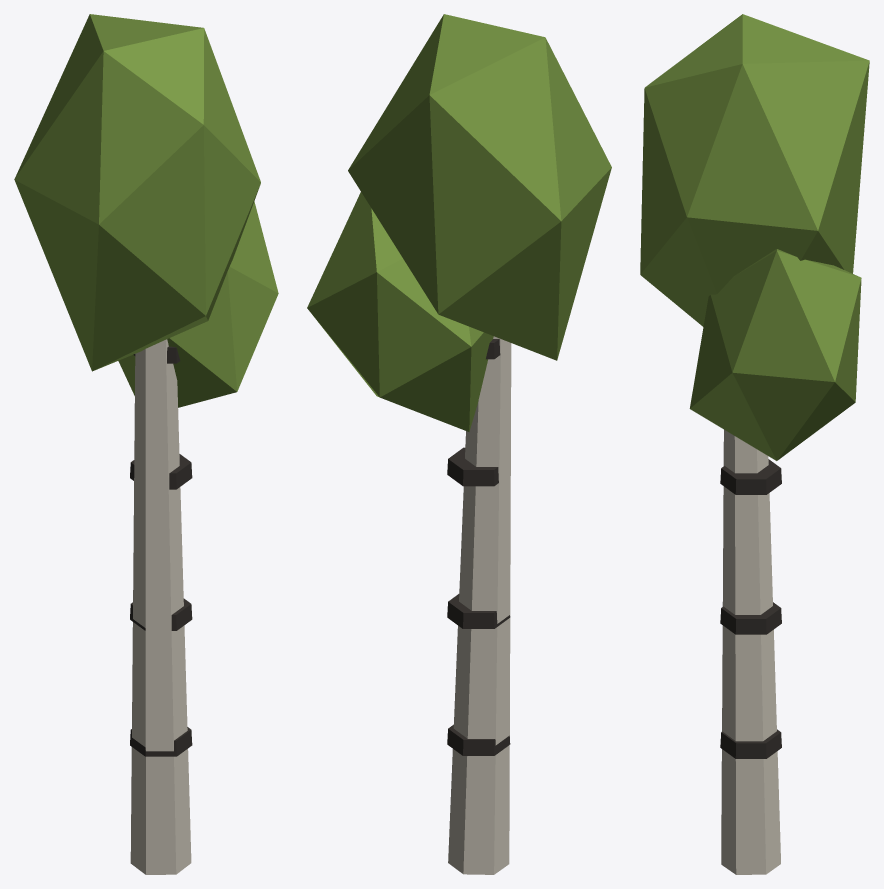
The model's file is nat-betula.gltf.
3 renders of one model, left to right at view 1: azimuth 30°, elevation 25°; view 2: azimuth 150°, elevation 25°; view 3: azimuth 270°, elevation 25°, orthographic. The views are drawn at different scales.
Parts seen in each view (by area): view 1: nat-betula; view 2: nat-betula; view 3: nat-betula.
Boxes of the visible parts, x1=… form: nat-betula: x1=14, y1=14, x2=278, y2=874; nat-betula: x1=307, y1=14, x2=611, y2=874; nat-betula: x1=640, y1=14, x2=869, y2=874.
Bounding box in the file's own units: 0.6443 × 2.11 × 0.5358.
